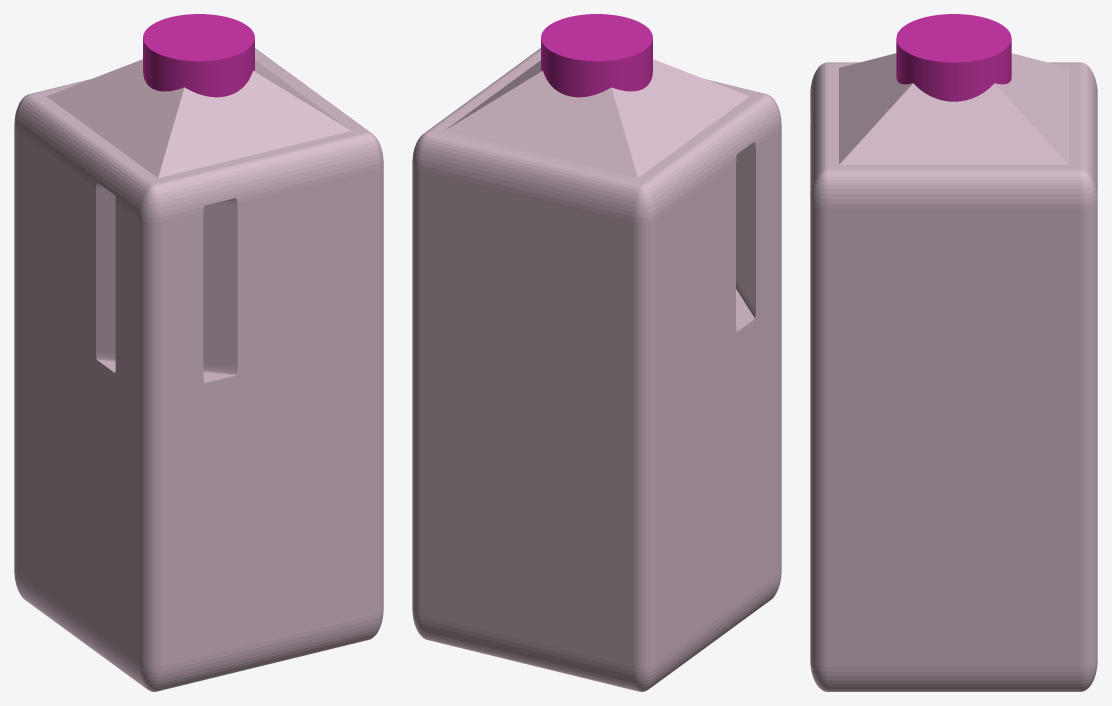
The model's file is strawber milk.glb.
3 renders of one model, left to right at view 1: azimuth 30°, elevation 25°; view 2: azimuth 150°, elevation 25°; view 3: azimuth 270°, elevation 25°, orthographic. The views are drawn at different scales.
Visible parts, largest first — view 1: Mesh_Mesh_head_geo.001_lambert2SG.001; view 2: Mesh_Mesh_head_geo.001_lambert2SG.001; view 3: Mesh_Mesh_head_geo.001_lambert2SG.001.
Boxes of the visible parts, x1=… form: Mesh_Mesh_head_geo.001_lambert2SG.001: x1=14, y1=14, x2=383, y2=691; Mesh_Mesh_head_geo.001_lambert2SG.001: x1=412, y1=14, x2=781, y2=691; Mesh_Mesh_head_geo.001_lambert2SG.001: x1=810, y1=14, x2=1097, y2=691.
Bounding box in the file's own units: 0.01 × 0.023 × 0.01.
